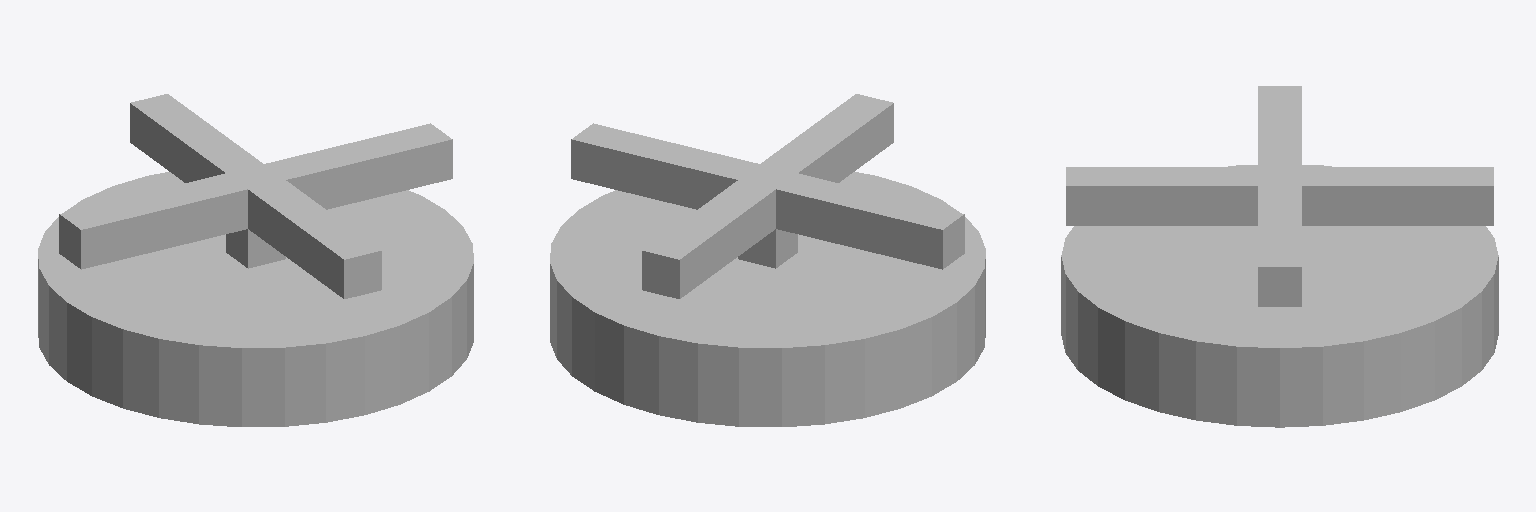
The model's file is simple servo.obj.
The picture shows the model from 3 angles: view 1: azimuth 30°, elevation 25°; view 2: azimuth 150°, elevation 25°; view 3: azimuth 270°, elevation 25°; orthographic projection.
Visible parts, largest first — view 1: servoBody_Cylinder, servoArm_Cylinder.001; view 2: servoBody_Cylinder, servoArm_Cylinder.001; view 3: servoBody_Cylinder, servoArm_Cylinder.001.
Part boxes in pixels (x1,y1,x2,y2): servoBody_Cylinder: (38,172,473,426); servoArm_Cylinder.001: (59,94,452,298); servoBody_Cylinder: (550,172,985,426); servoArm_Cylinder.001: (571,94,964,298); servoBody_Cylinder: (1061,165,1498,427); servoArm_Cylinder.001: (1066,86,1493,306).
Bounding box in the file's own units: 0.1 × 0.04 × 0.1.